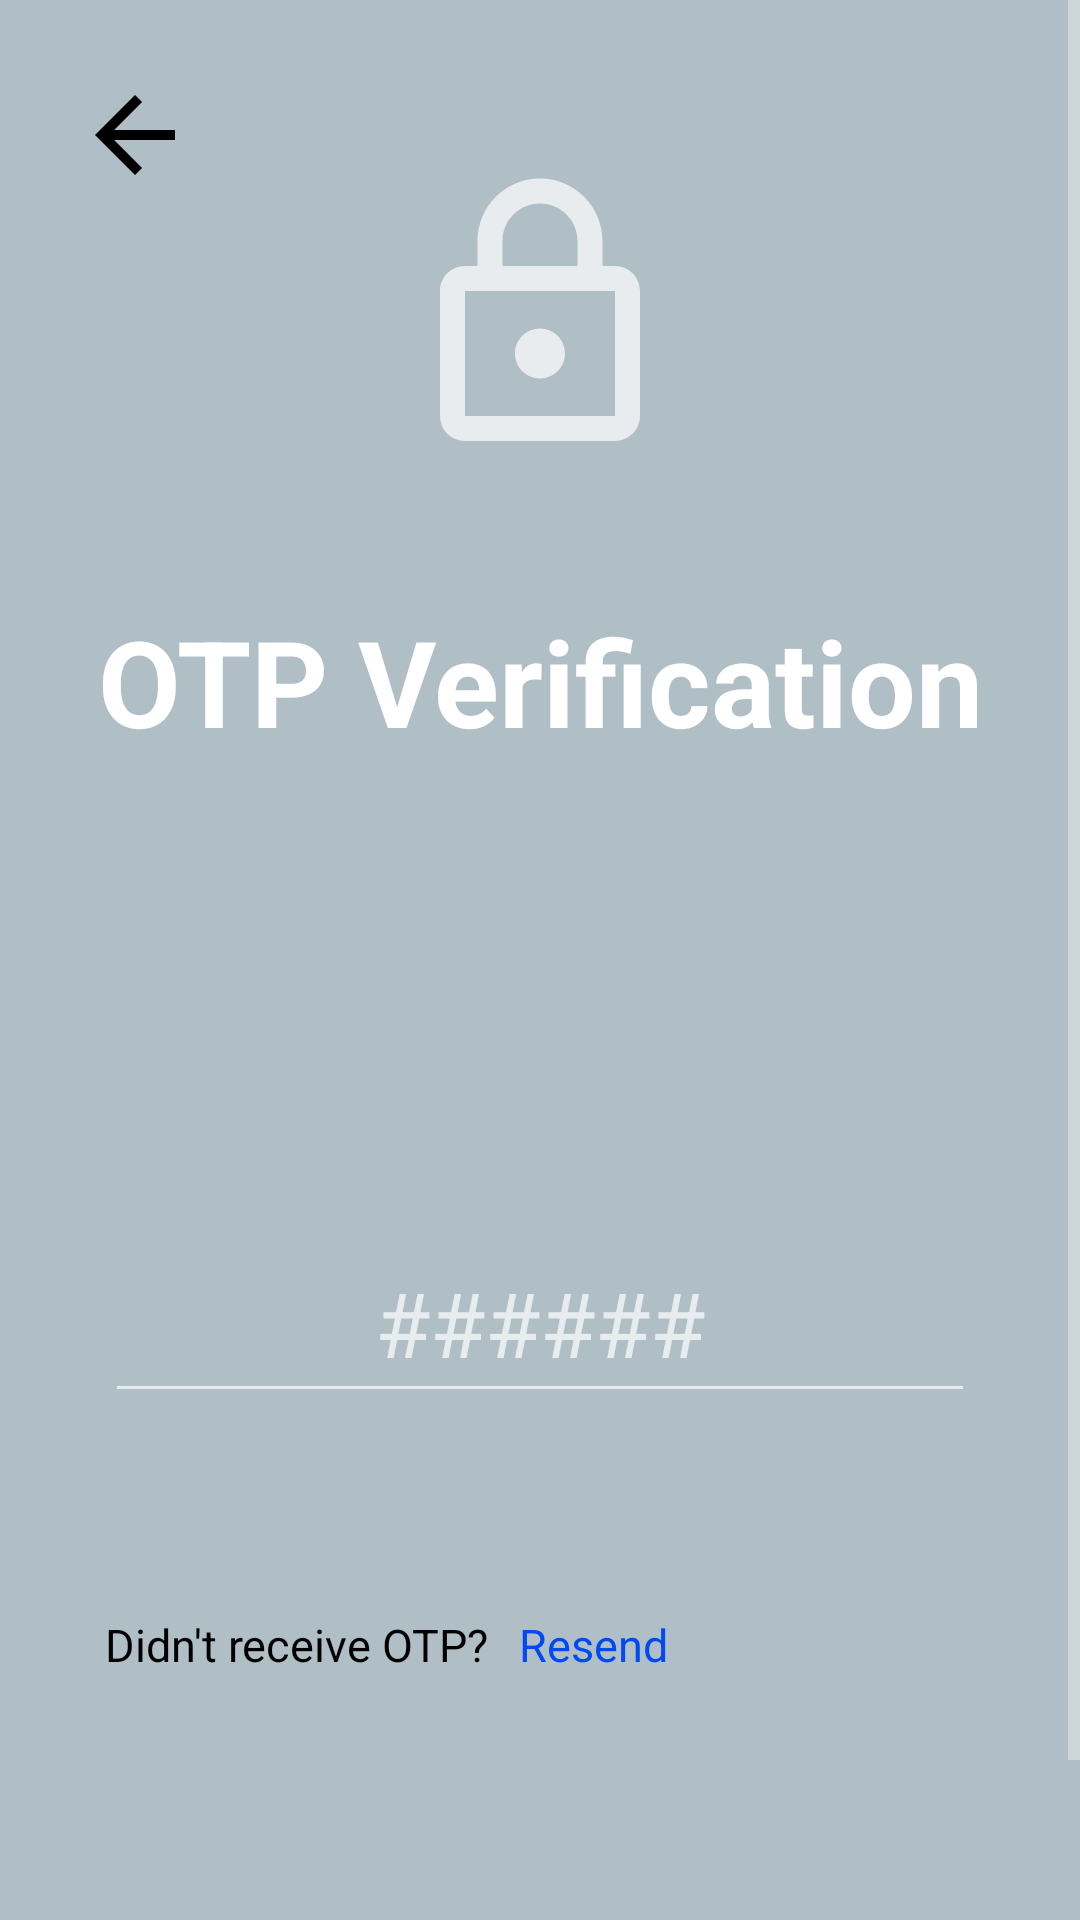

Screen size 1080w x 1920h. Icon name, then its center in pixels as [x,y]:
back: [135,135]
lock: [540,309]
